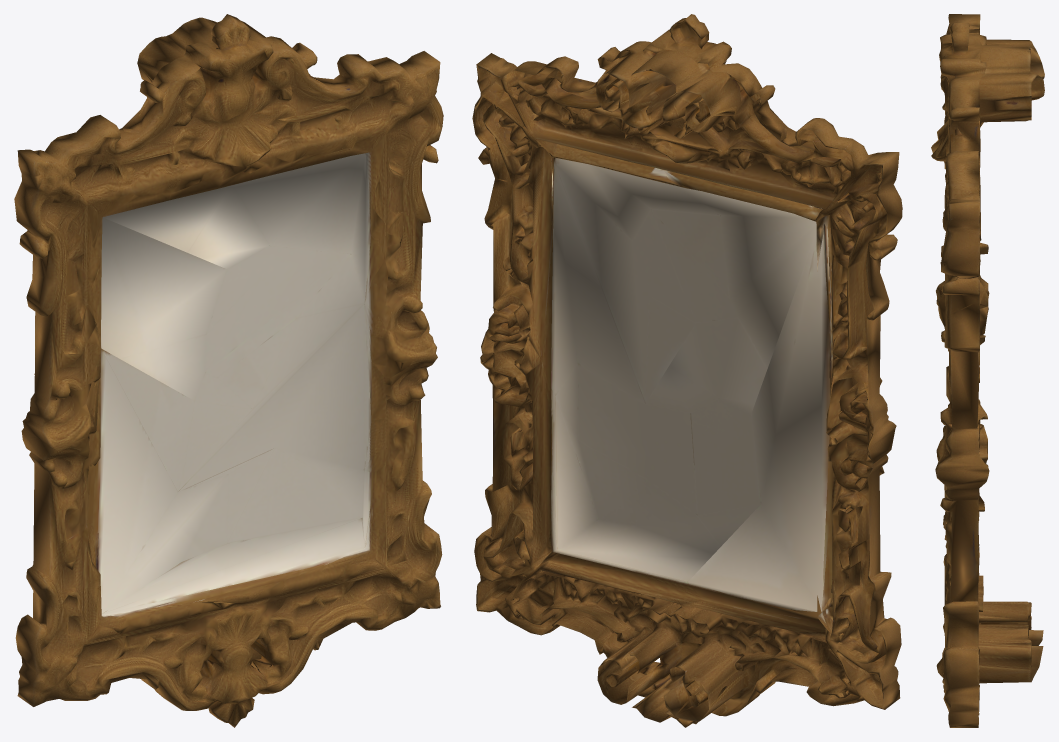
Rendered from plaque_tall.glb.
3 views of the same model, side by side, from view 1: azimuth 30°, elevation 25°; view 2: azimuth 150°, elevation 25°; view 3: azimuth 270°, elevation 25° (orthographic). The views are drawn at different scales.
Size of the model in its own units: 1.17 by 1.91 by 0.2905.
1 material, 1 textured.
